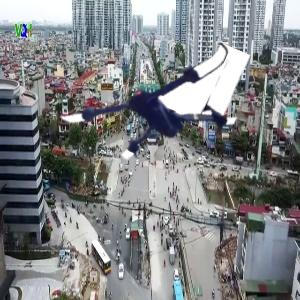drone: (66, 21, 238, 193)
